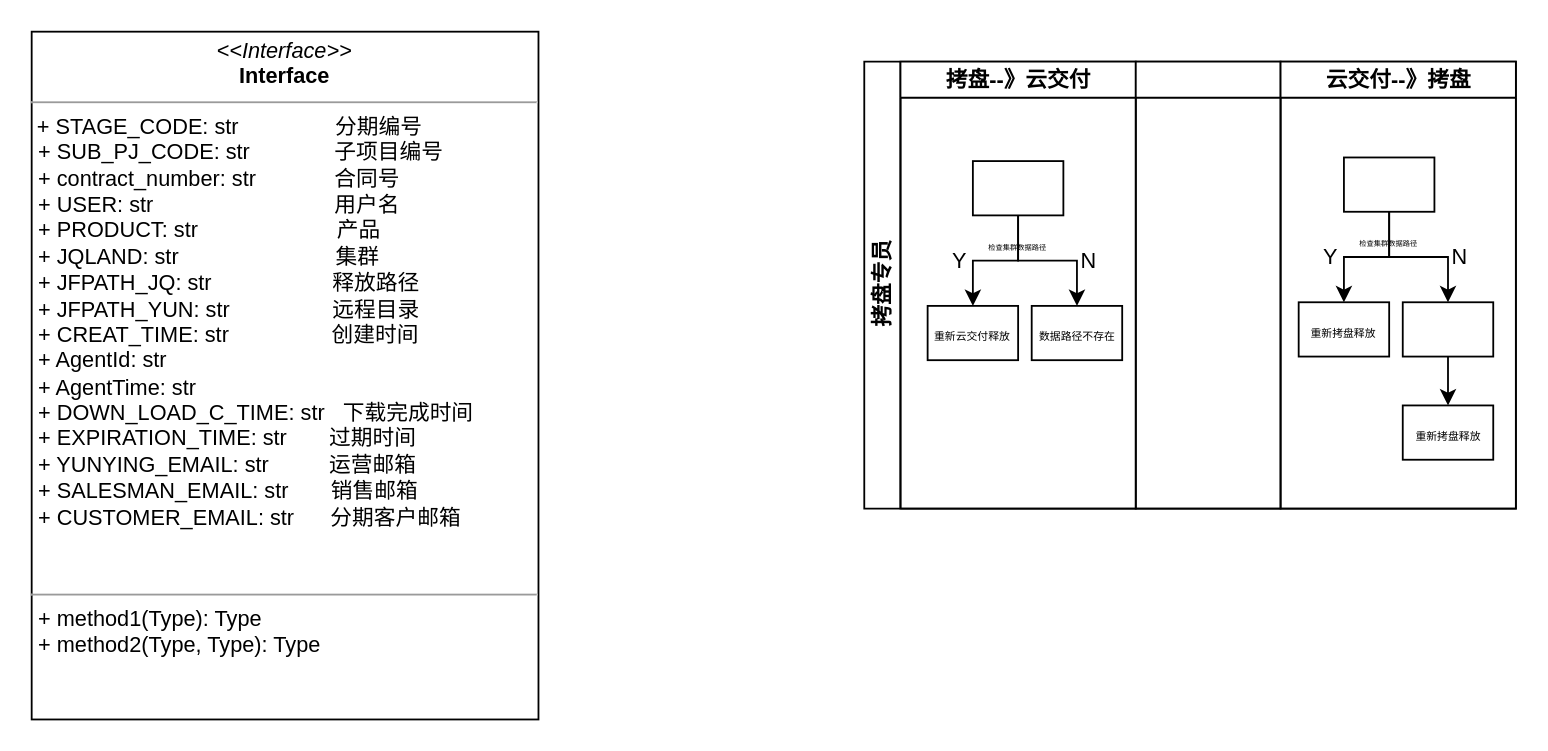
Some shapes in this 1548 by 751 pixel diagram are drawn without their labels. The shapes that lost their labels are listed below. From the top down, each one's centre as x and y in pixels, then its label:
the point at 1017,187: 拷盘项目信息
the point at 1388,184: 云交付项目信息
the point at 1207,284: 数据库
the point at 1447,328: 从云下载数据
